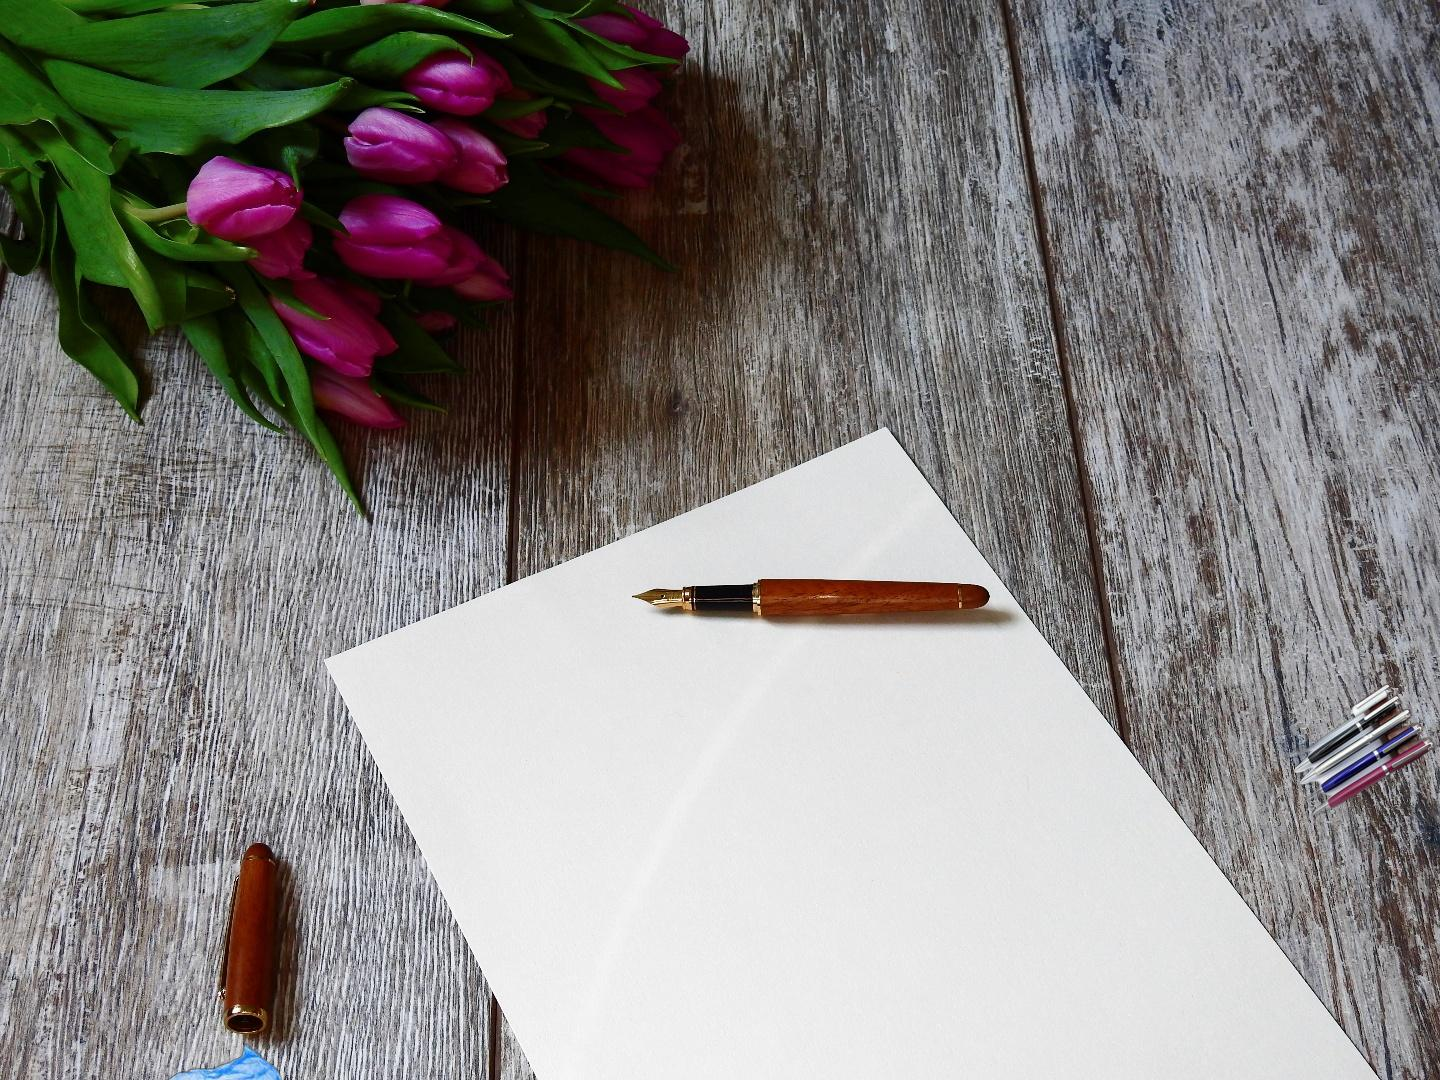penholder: (1286, 681, 1435, 820)
plastic-bag: (101, 1033, 298, 1080)
